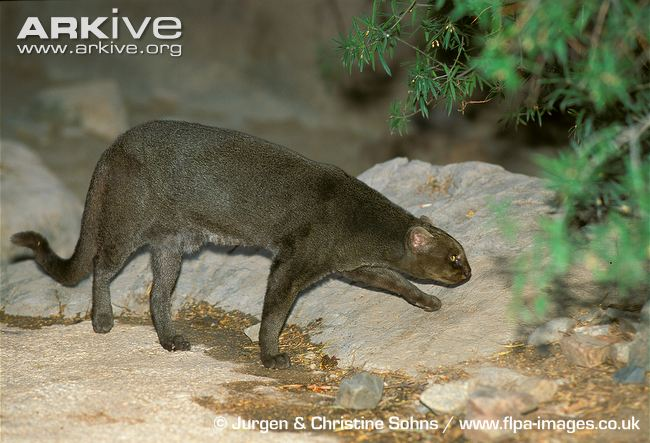Jaguarundi: (5, 112, 479, 374)
